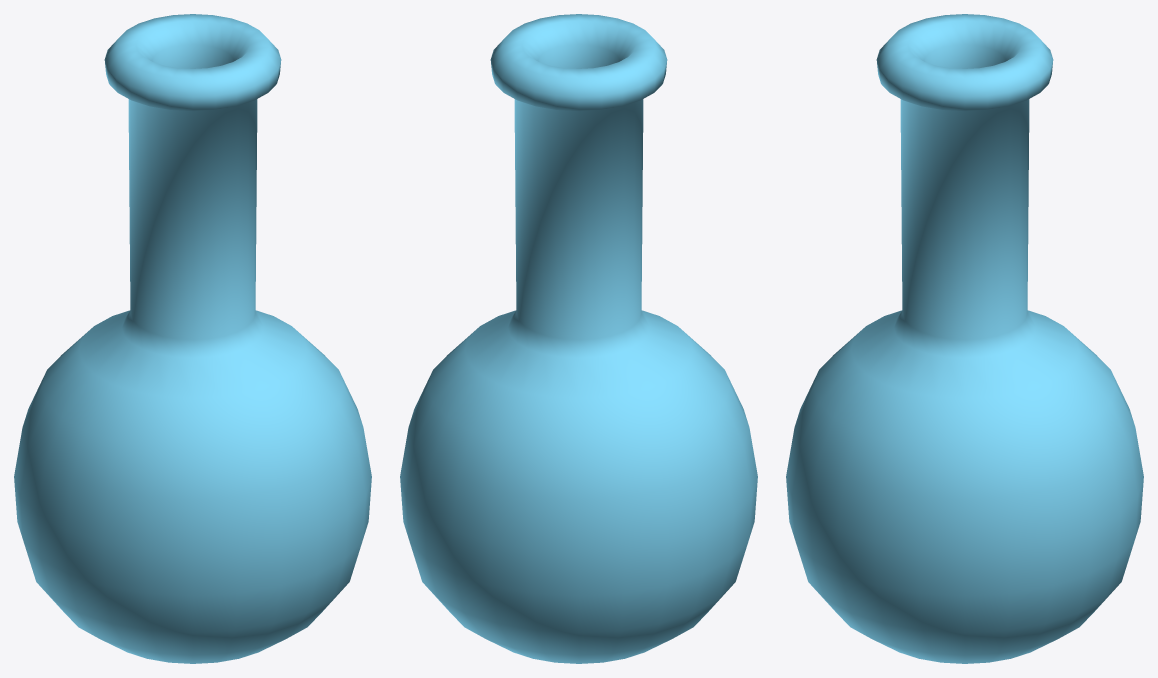
Rendered from Flask, Round Bottom, Long Neck.fbx.
3 renders of one model, left to right at view 1: azimuth 30°, elevation 25°; view 2: azimuth 150°, elevation 25°; view 3: azimuth 270°, elevation 25°, orthographic.
Visible parts, largest first — view 1: Flask, Round Bottom, Long Neck_LOD0; view 2: Flask, Round Bottom, Long Neck_LOD0; view 3: Flask, Round Bottom, Long Neck_LOD0.
Part boxes in pixels (<box>): Flask, Round Bottom, Long Neck_LOD0: <box>14,14,371,663</box>; Flask, Round Bottom, Long Neck_LOD0: <box>400,14,757,663</box>; Flask, Round Bottom, Long Neck_LOD0: <box>786,14,1143,663</box>.
Size of what is drawn, in the model's own units: 0.4439 by 0.8182 by 0.4439.
